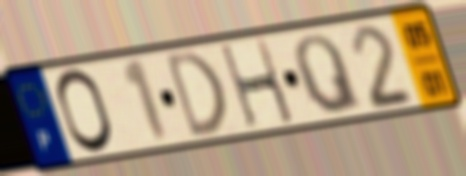1: (122, 56, 170, 148)
2: (349, 22, 416, 113)
D: (162, 47, 232, 143)
H: (216, 36, 298, 132)
O: (53, 66, 116, 157)
Q: (292, 31, 367, 117)
